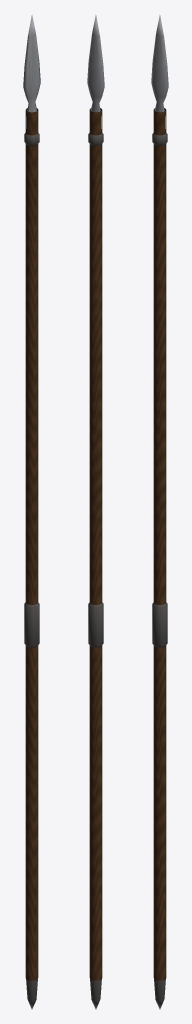
File: mizrak.glb
3 views of the same model, side by side, from view 1: azimuth 30°, elevation 25°; view 2: azimuth 150°, elevation 25°; view 3: azimuth 330°, elevation 25° (orthographic).
Visible parts, largest first — view 1: mizrak; view 2: mizrak; view 3: mizrak.
Part boxes in pixels (x1=…): mizrak: x1=23, y1=15, x2=40, y2=1009; mizrak: x1=87, y1=15, x2=104, y2=1009; mizrak: x1=151, y1=15, x2=168, y2=1009.
Size of the model in its own units: 0.052 by 2.81 by 0.04.
Materials: 3 (3 with a texture image).
